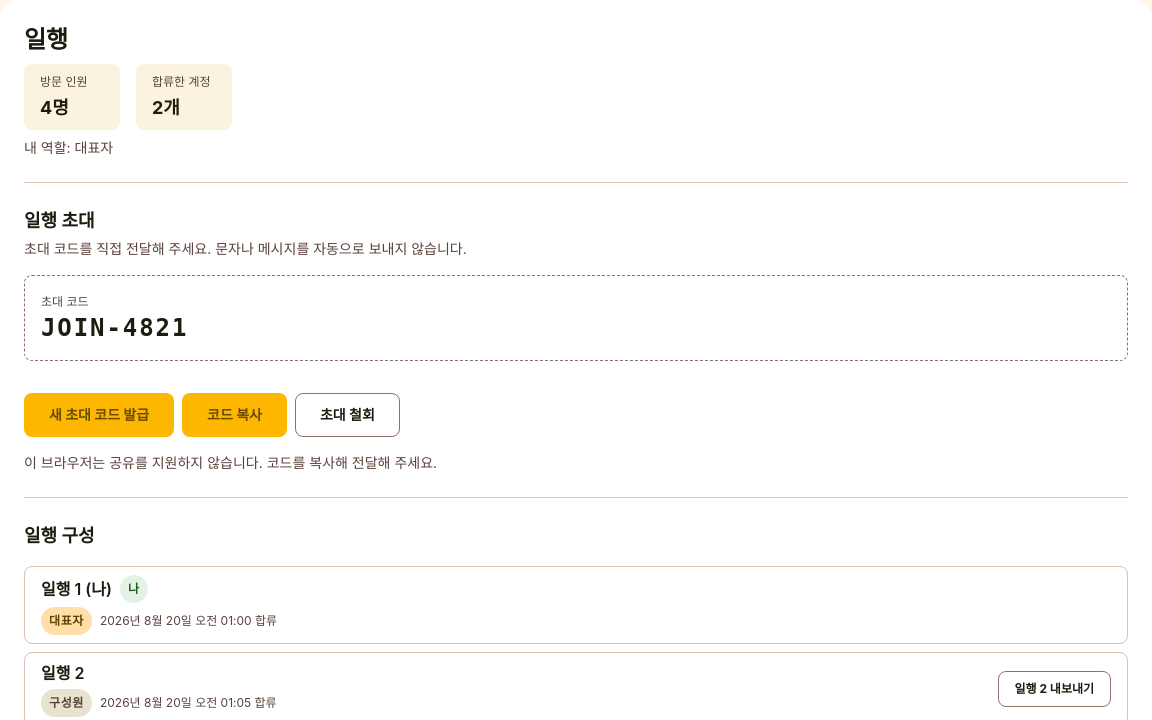
Test: 일행 패널 - 초대 철회 확인 › 확인 다이얼로그를 취소하면 아무 일도 하지 않는다
Step 1. Click the button "초대 철회" → (347, 415), box [295,393,400,437]
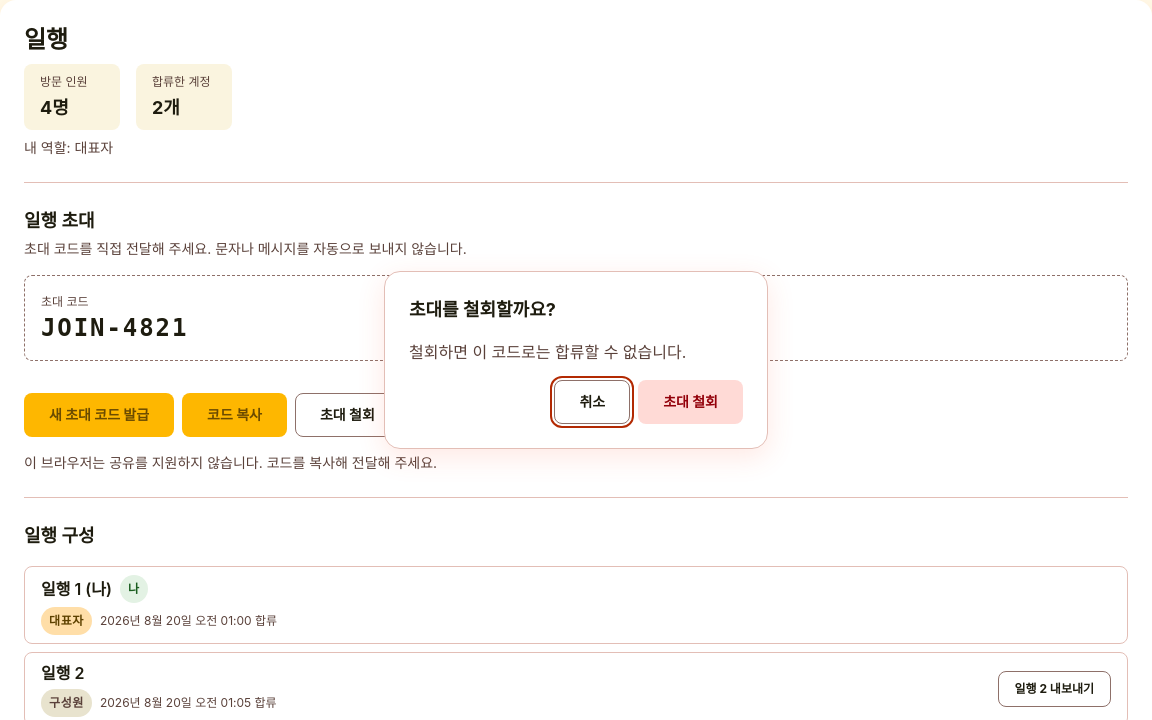
Step 2. Click the button "취소" → (592, 402), box [554,380,630,424]
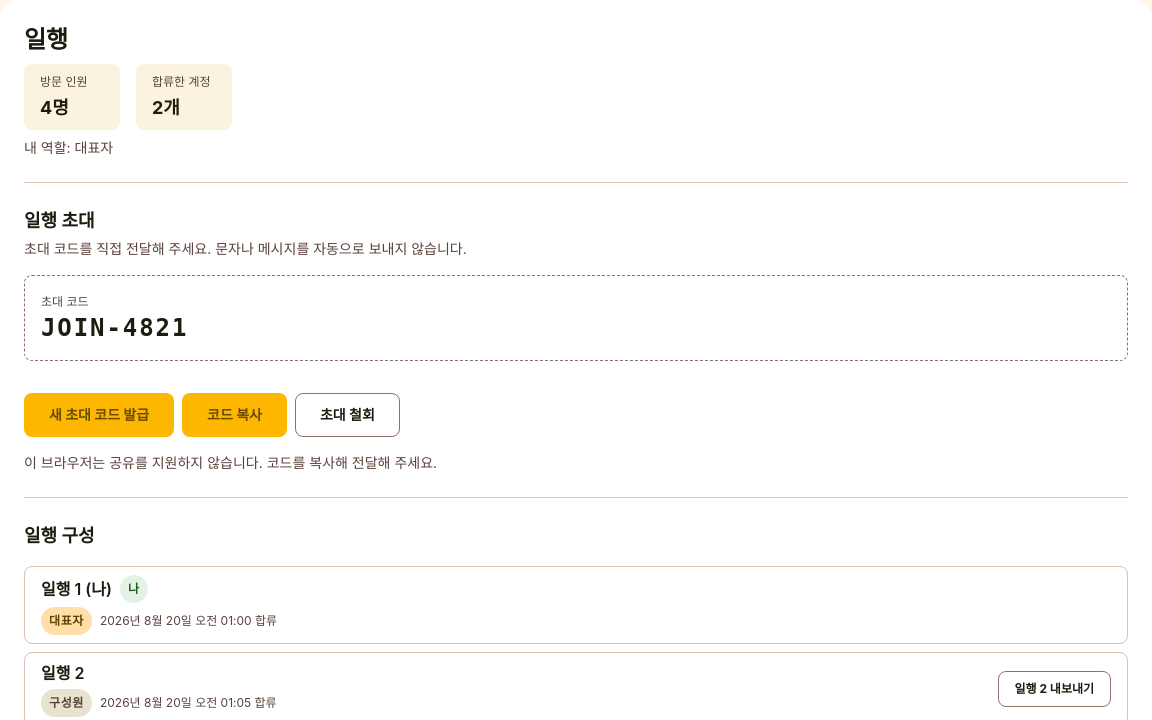
Expected: the dialog is gone
